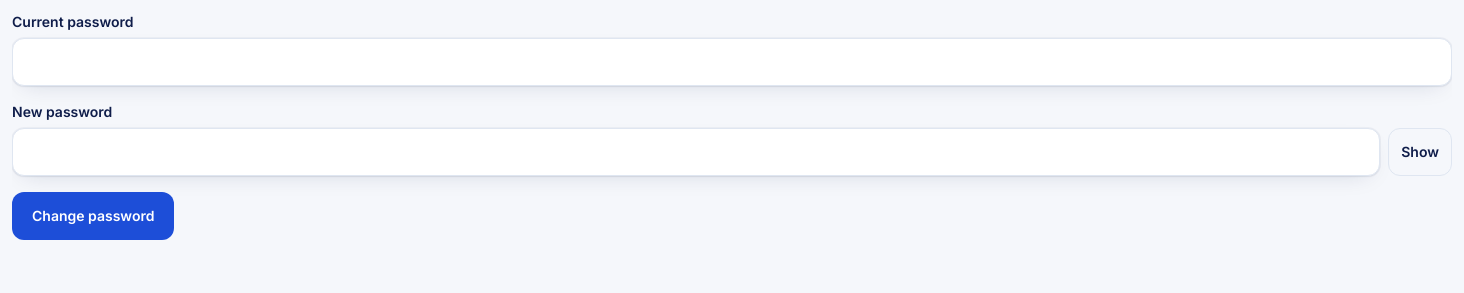
ChangePasswordForm › says when it is done
The width and height of the screenshot is (1464, 293).
Click the button "Change password".
click(93, 216)  # box [12,192,174,240]
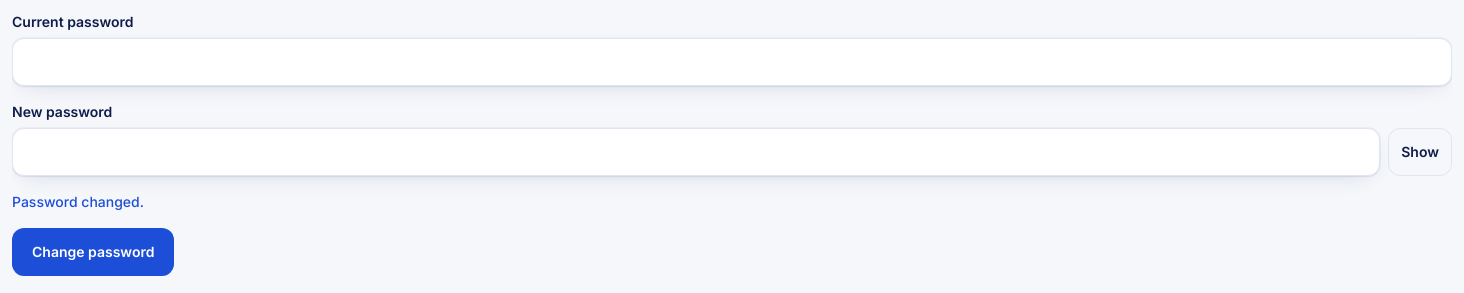
Expected: the message shows "changed", [12,193,144,210]
